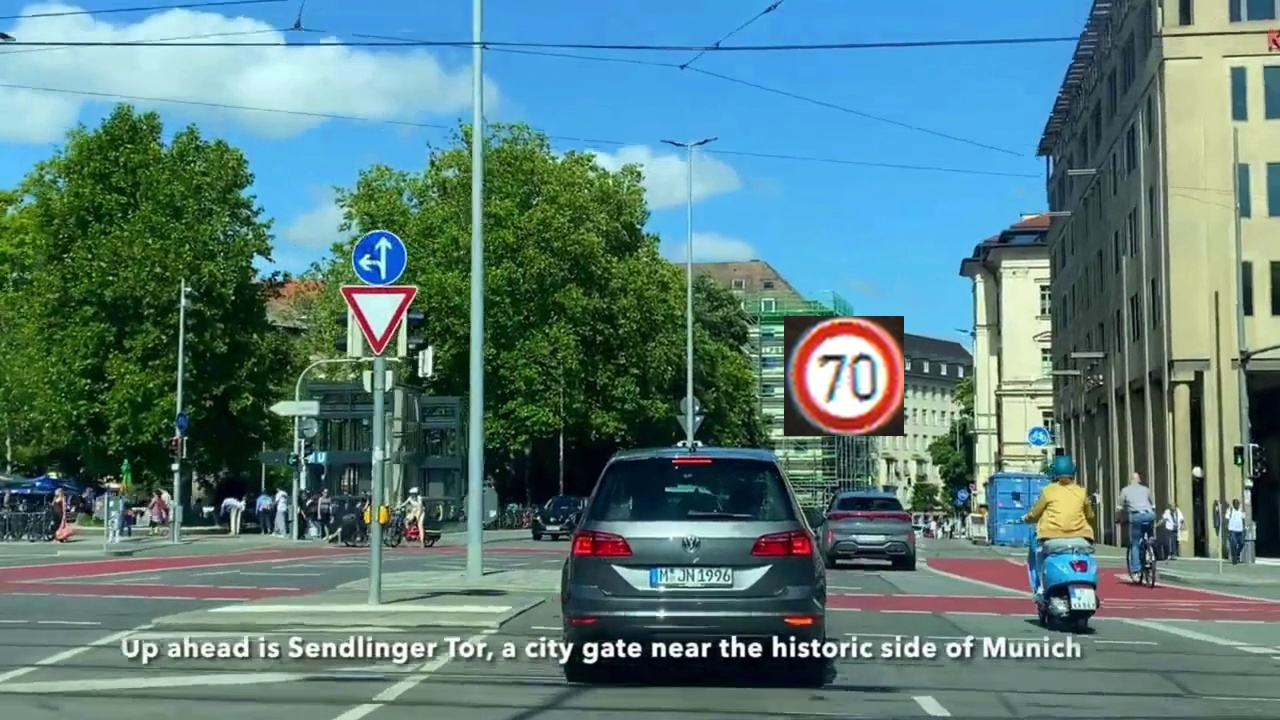Speed 70: (784, 316, 904, 436)
